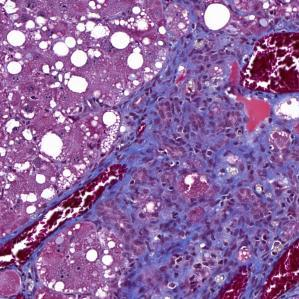fibrosis: (113, 129, 295, 242), (129, 45, 253, 139), (124, 231, 269, 296)
